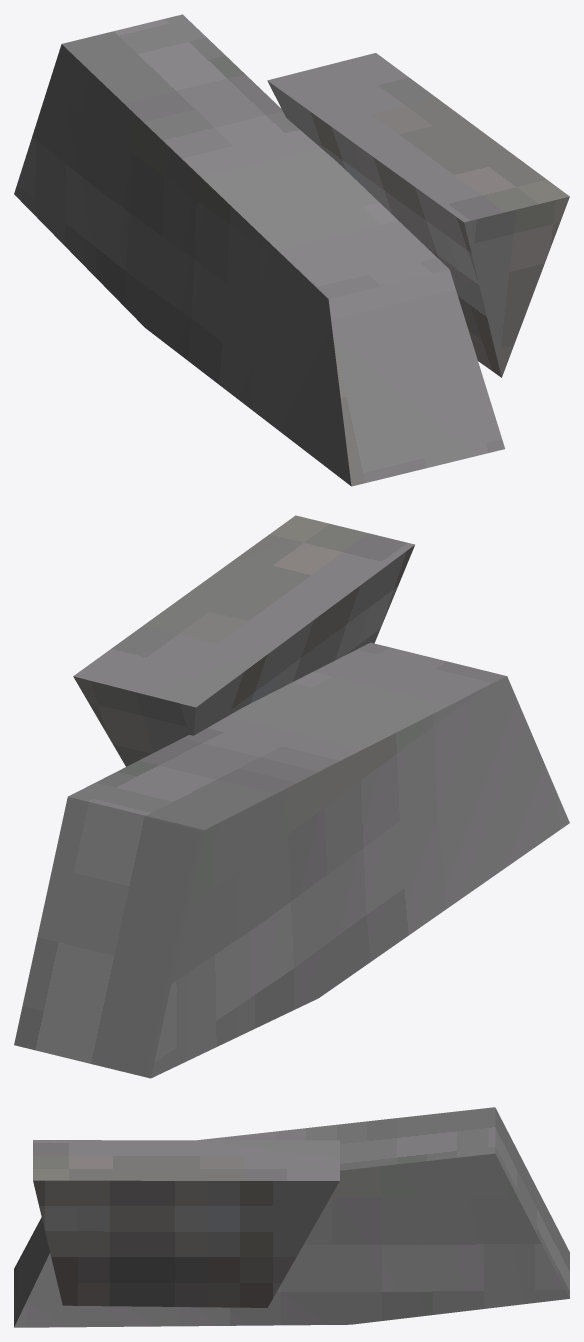
File: LOD2-UVFlip.obj
The picture shows the model from 3 angles, top to bottom: view 1: azimuth 30°, elevation 25°; view 2: azimuth 150°, elevation 25°; view 3: azimuth 270°, elevation 25°; orthographic projection. The views are drawn at different scales.
Visible parts, largest first — view 1: Hgn_PulsarCorvette_LOD2; view 2: Hgn_PulsarCorvette_LOD2; view 3: Hgn_PulsarCorvette_LOD2.
Part boxes in pixels (<box>): Hgn_PulsarCorvette_LOD2: <box>14,14,569,486</box>; Hgn_PulsarCorvette_LOD2: <box>14,515,569,1078</box>; Hgn_PulsarCorvette_LOD2: <box>14,1107,569,1327</box>.
Bounding box in the file's own units: 5.22 × 4.84 × 13.78.
